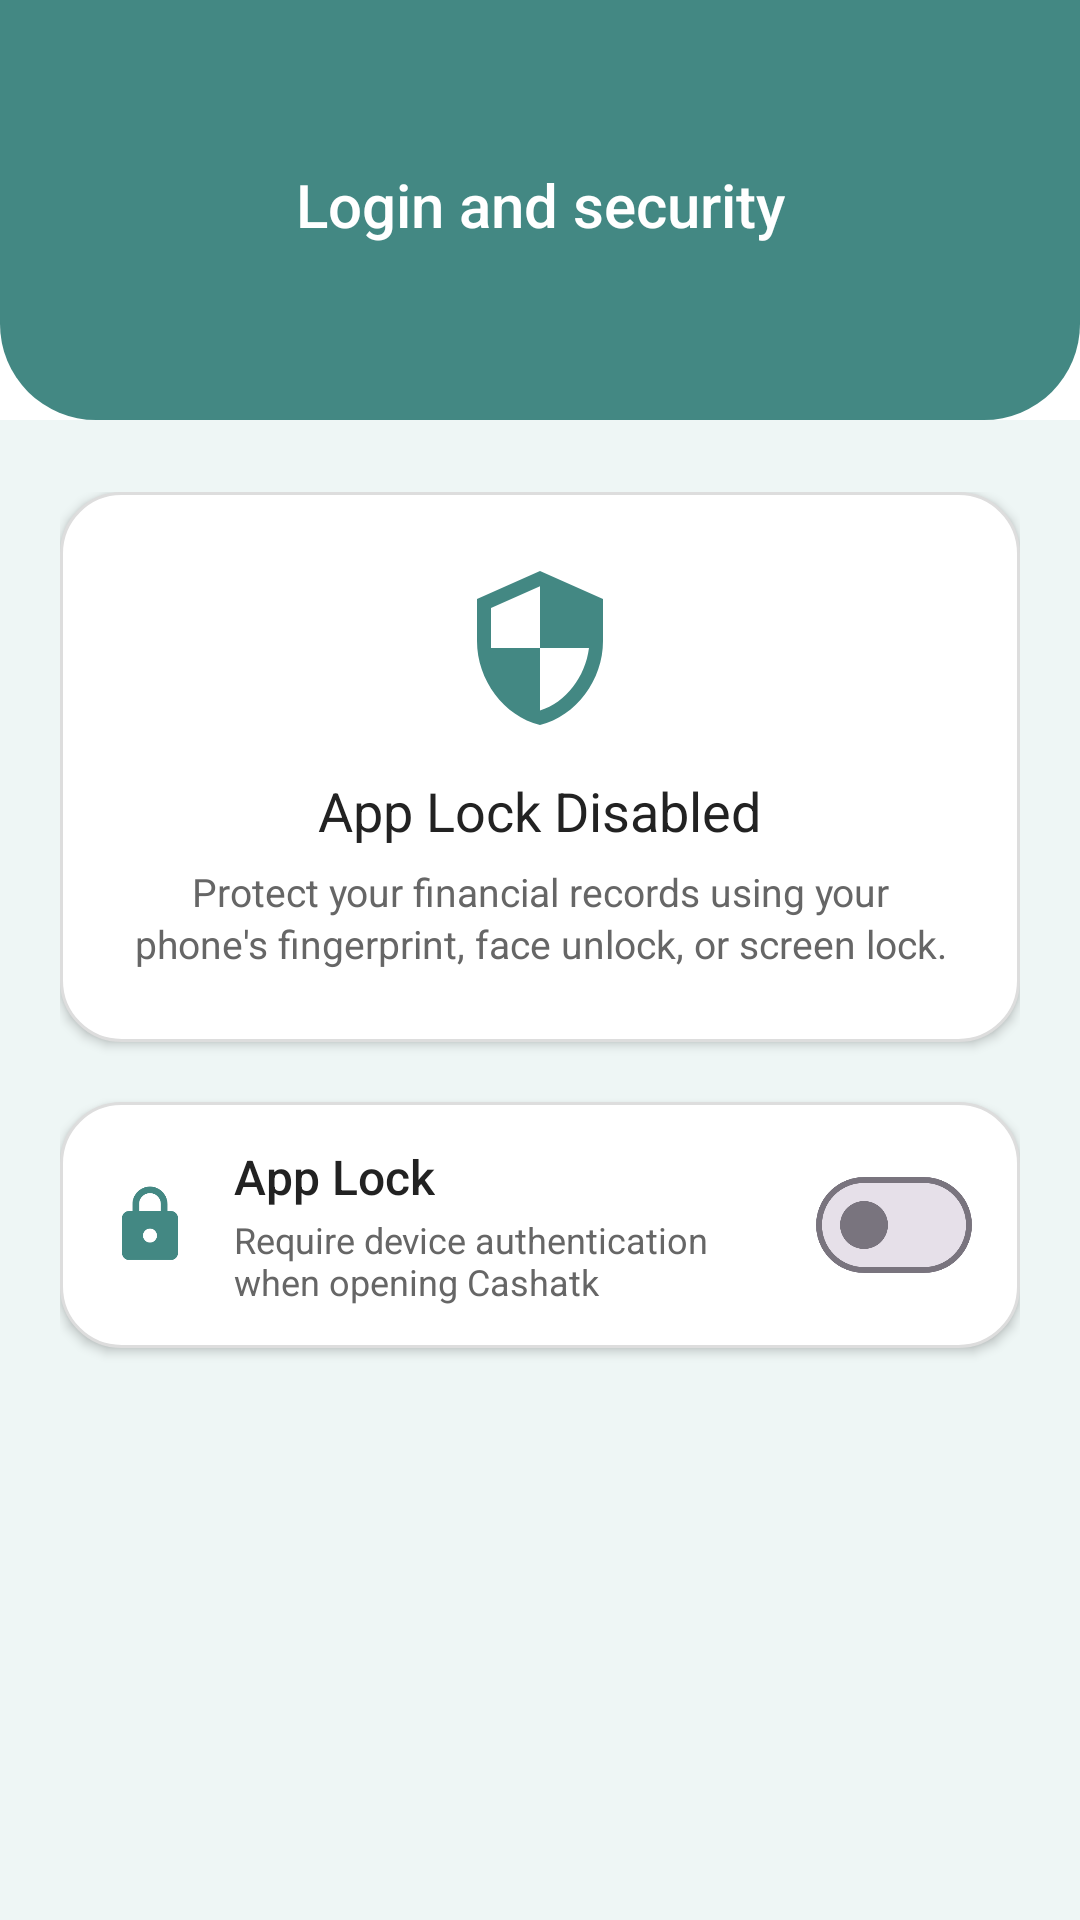

Where icons sit on this 1080 × 1920 app screen, as (x1, y1, x2, y2):
App Security: (477, 571, 603, 725)
